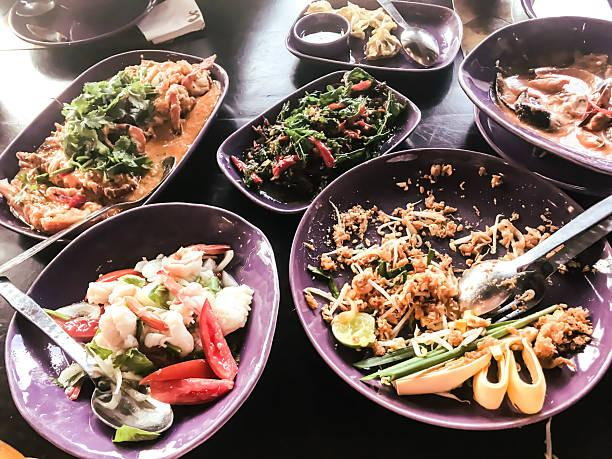Braised Crucian Carp: (289, 148, 601, 425), (6, 203, 275, 455), (0, 49, 228, 237), (217, 71, 423, 210), (455, 15, 612, 191), (283, 0, 465, 83)
